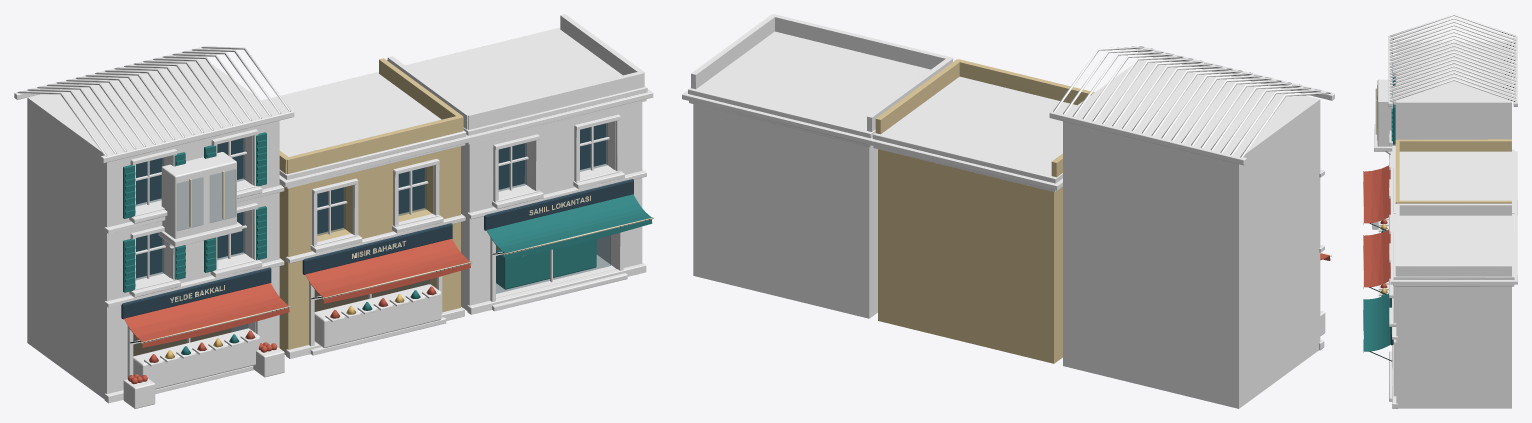
Rendered from DistrictBlock_1_1_LOD1.glb.
3 renders of one model, left to right at view 1: azimuth 30°, elevation 25°; view 2: azimuth 150°, elevation 25°; view 3: azimuth 270°, elevation 25°, orthographic. The views are drawn at different scales.
Visible parts, largest first — view 1: RK_DistrictBlock_1_1_LOD1_LC_Coral, RK_DistrictBlock_1_1_LOD1_LC_Lime, RK_DistrictBlock_1_1_LOD1_LC_Wood, RK_DistrictBlock_1_1_LOD1_LC_Ochre, RK_DistrictBlock_1_1_LOD1_LC_Ink, RK_DistrictBlock_1_1_LOD1_LC_Teal, RK_DistrictBlock_1_1_LOD1_LC_Glass, RK_DistrictBlock_1_1_LOD1_LC_Red, RK_DistrictBlock_1_1_LOD1_LC_Tile, RK_DistrictBlock_1_1_LOD1_LC_Canvas, RK_DistrictBlock_1_1_LOD1_LC_Interior; view 2: RK_DistrictBlock_1_1_LOD1_LC_Coral, RK_DistrictBlock_1_1_LOD1_LC_Ochre, RK_DistrictBlock_1_1_LOD1_LC_Lime, RK_DistrictBlock_1_1_LOD1_LC_Tile, RK_DistrictBlock_1_1_LOD1_LC_Wood; view 3: RK_DistrictBlock_1_1_LOD1_LC_Coral, RK_DistrictBlock_1_1_LOD1_LC_Lime, RK_DistrictBlock_1_1_LOD1_LC_Tile, RK_DistrictBlock_1_1_LOD1_LC_Red, RK_DistrictBlock_1_1_LOD1_LC_Ochre, RK_DistrictBlock_1_1_LOD1_LC_Teal, RK_DistrictBlock_1_1_LOD1_LC_Wood, RK_DistrictBlock_1_1_LOD1_LC_Canvas.
Boxes of the visible parts, box(x1,y1,x2,y2) form: RK_DistrictBlock_1_1_LOD1_LC_Coral: box(27, 14, 644, 399); RK_DistrictBlock_1_1_LOD1_LC_Lime: box(104, 27, 653, 403); RK_DistrictBlock_1_1_LOD1_LC_Wood: box(14, 47, 615, 408); RK_DistrictBlock_1_1_LOD1_LC_Ochre: box(279, 58, 463, 354); RK_DistrictBlock_1_1_LOD1_LC_Ink: box(121, 123, 633, 319); RK_DistrictBlock_1_1_LOD1_LC_Teal: box(123, 132, 652, 354); RK_DistrictBlock_1_1_LOD1_LC_Glass: box(133, 123, 610, 355); RK_DistrictBlock_1_1_LOD1_LC_Red: box(124, 238, 470, 383); RK_DistrictBlock_1_1_LOD1_LC_Tile: box(17, 46, 290, 156); RK_DistrictBlock_1_1_LOD1_LC_Canvas: box(141, 171, 653, 343); RK_DistrictBlock_1_1_LOD1_LC_Interior: box(133, 245, 498, 355); RK_DistrictBlock_1_1_LOD1_LC_Coral: box(691, 14, 1320, 408); RK_DistrictBlock_1_1_LOD1_LC_Ochre: box(875, 59, 1094, 363); RK_DistrictBlock_1_1_LOD1_LC_Lime: box(682, 31, 1324, 350); RK_DistrictBlock_1_1_LOD1_LC_Tile: box(1053, 46, 1331, 157); RK_DistrictBlock_1_1_LOD1_LC_Wood: box(1049, 47, 1334, 335); RK_DistrictBlock_1_1_LOD1_LC_Coral: box(1395, 41, 1511, 408); RK_DistrictBlock_1_1_LOD1_LC_Lime: box(1374, 57, 1517, 408); RK_DistrictBlock_1_1_LOD1_LC_Tile: box(1389, 14, 1516, 101); RK_DistrictBlock_1_1_LOD1_LC_Red: box(1364, 165, 1390, 288); RK_DistrictBlock_1_1_LOD1_LC_Ochre: box(1395, 139, 1511, 203); RK_DistrictBlock_1_1_LOD1_LC_Teal: box(1363, 64, 1395, 351); RK_DistrictBlock_1_1_LOD1_LC_Wood: box(1372, 36, 1517, 229); RK_DistrictBlock_1_1_LOD1_LC_Canvas: box(1363, 88, 1377, 352).
Size of the model in its own units: 19.16 by 9.34 by 6.44.
